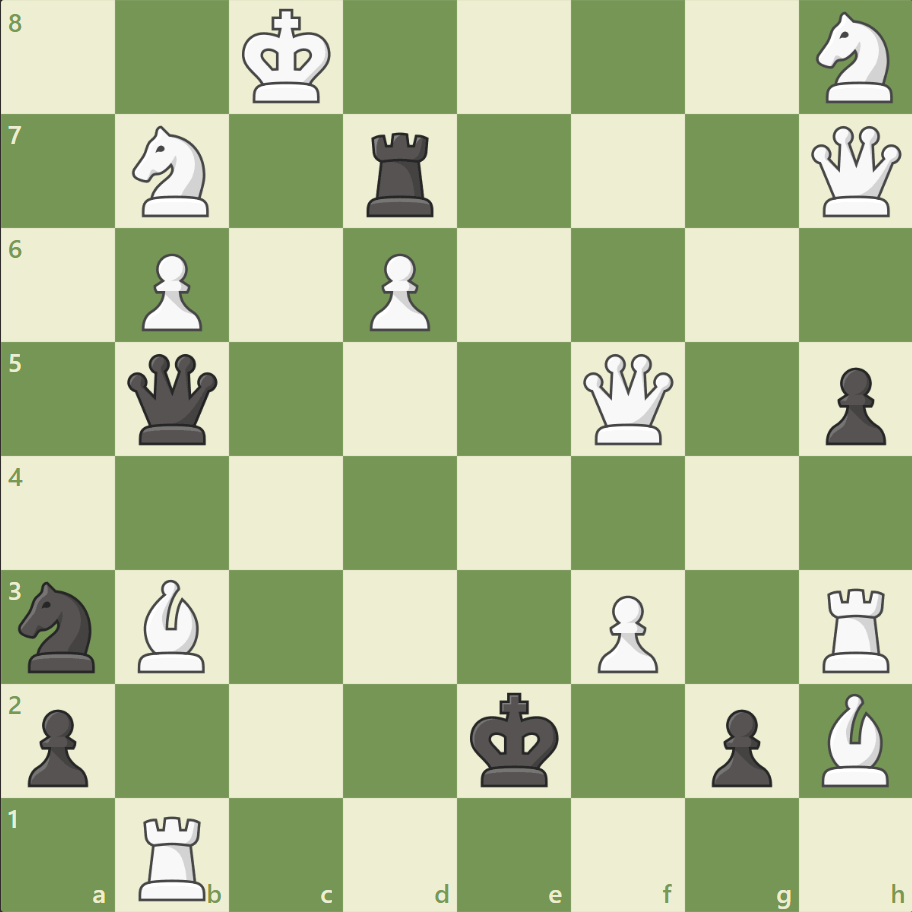B: (812, 687, 896, 790), (131, 574, 215, 676)
K: (238, 4, 338, 112)
N: (124, 121, 222, 223), (806, 7, 903, 110)
P: (133, 246, 208, 337), (361, 246, 435, 337), (588, 586, 662, 677)
Q: (805, 122, 904, 222), (578, 349, 677, 449)
R: (814, 579, 897, 676), (133, 806, 215, 904)
k: (465, 685, 565, 793)
n: (11, 575, 108, 677)
p: (20, 700, 95, 791), (701, 700, 776, 791), (815, 359, 889, 450)
q: (124, 349, 223, 449)
r: (360, 125, 442, 222)
